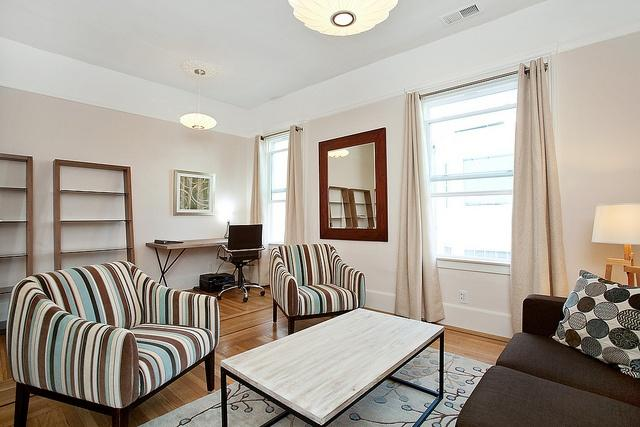Kursi: (214, 223, 264, 302)
Meja: (218, 306, 447, 426)
